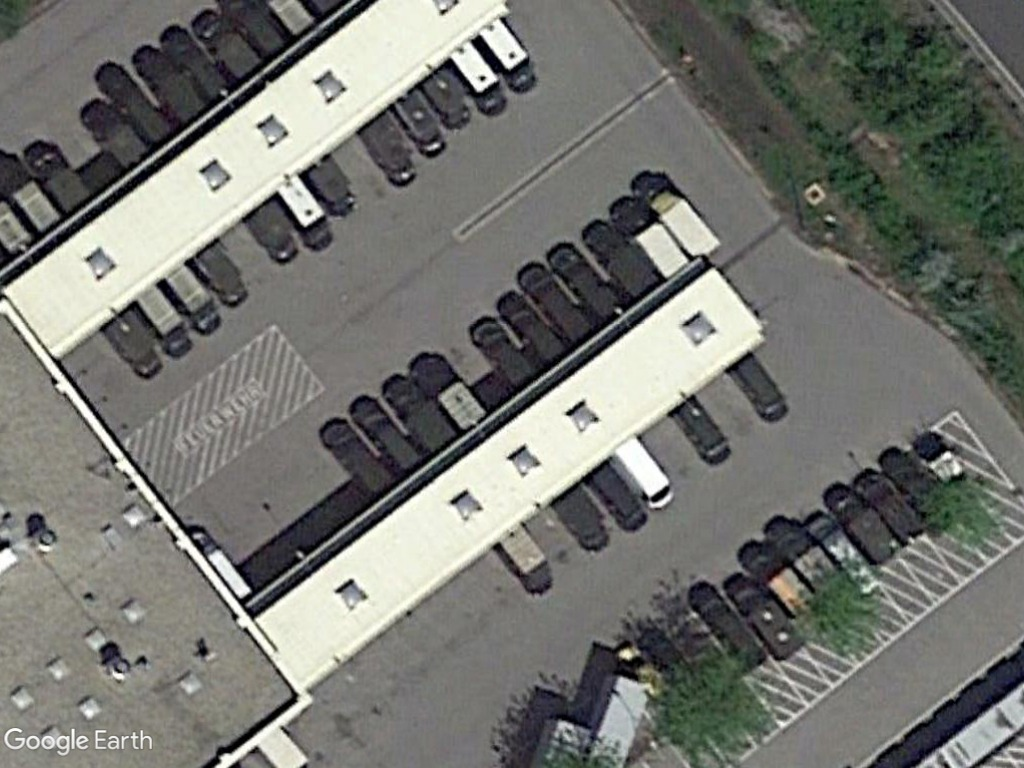truck: (635, 171, 722, 264), (608, 199, 690, 279), (449, 34, 515, 117), (276, 174, 339, 252), (478, 15, 539, 94), (134, 282, 197, 358), (166, 258, 223, 333)
van: (618, 436, 679, 515)
